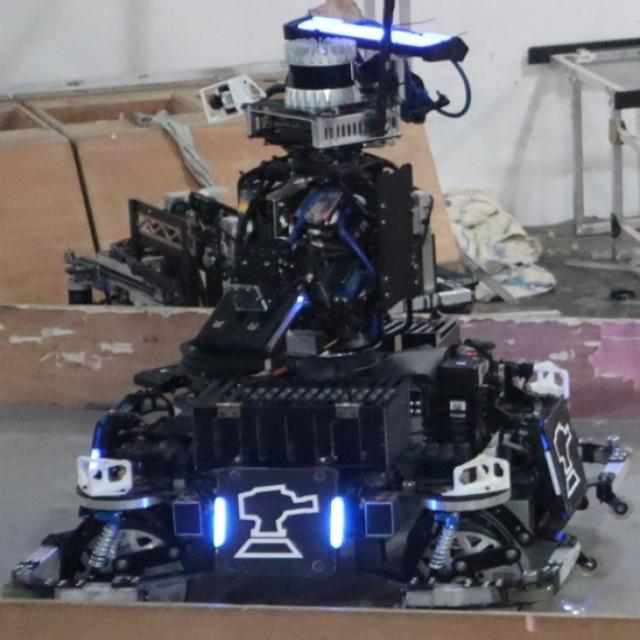Bs: (209, 482, 346, 561)
